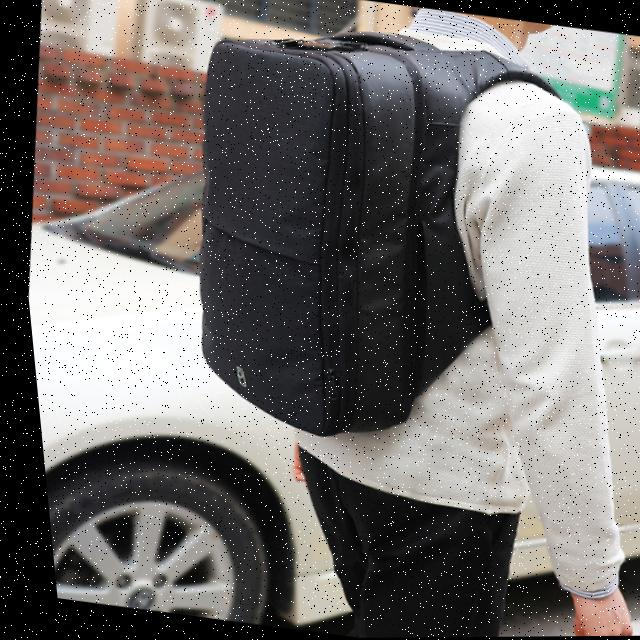backpack: (117, 0, 602, 488)
